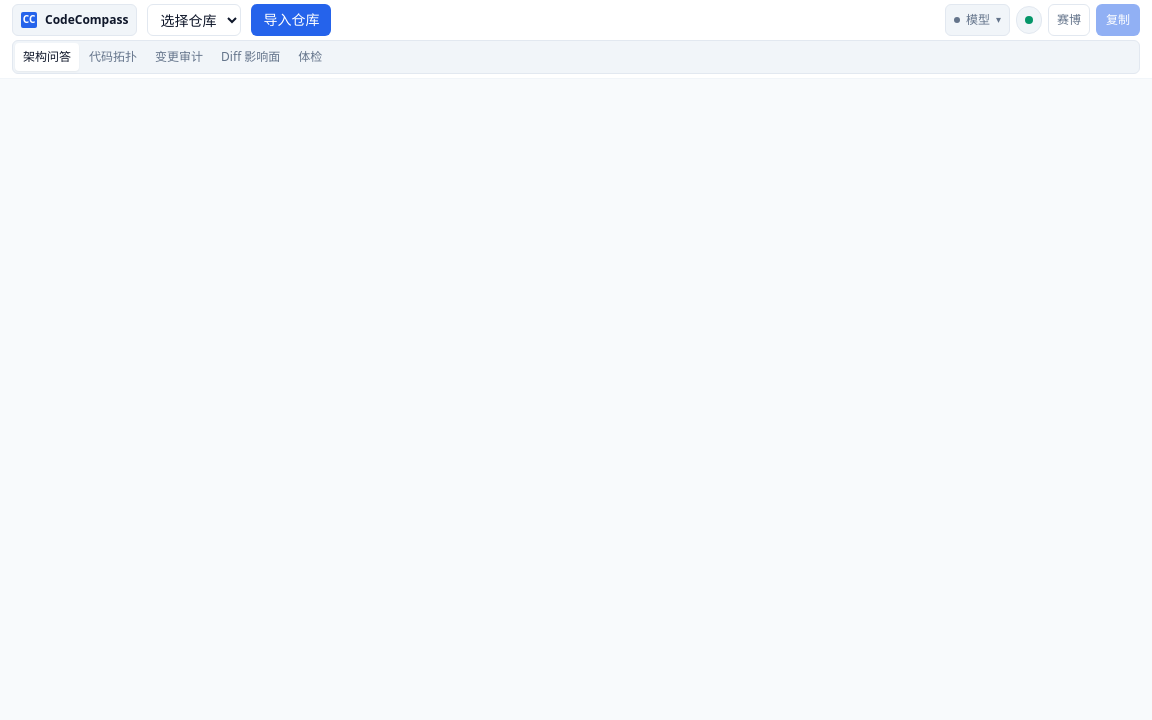
Scenario: TopBar import dialog › only reacts to Escape while the dialog is open (Bug-11)
Press Escape
Click the button with test id "open-import" at (291, 20), box left=251, top=4, right=331, bottom=36
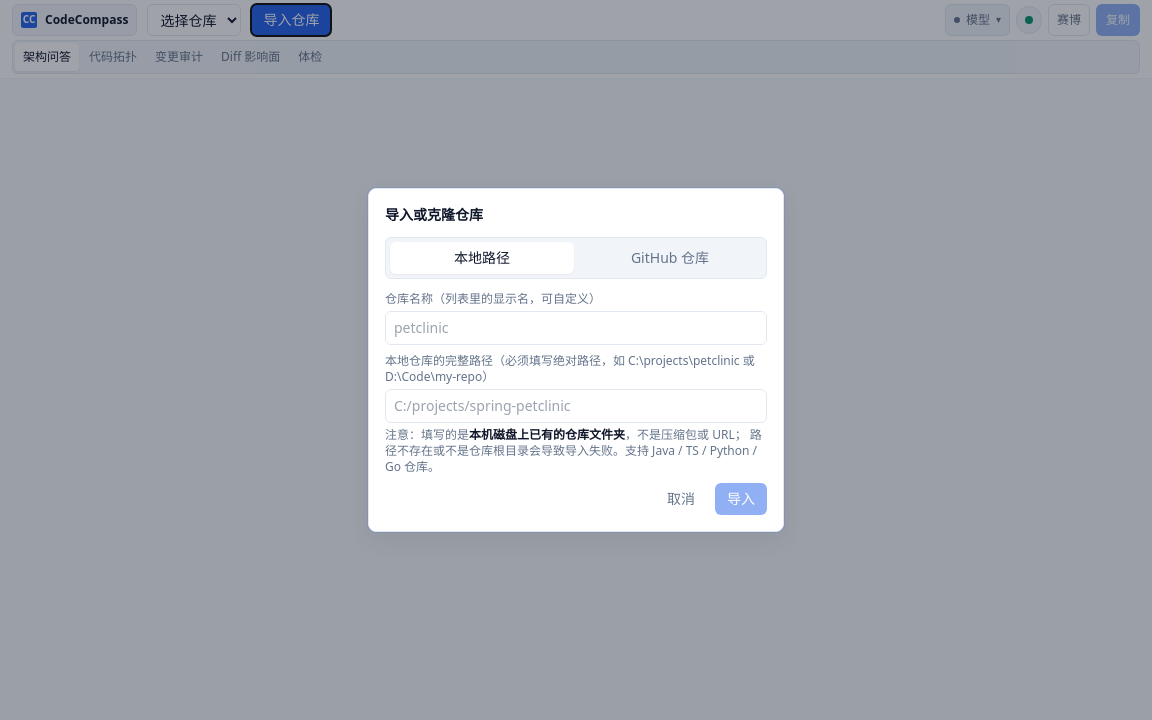
Check: the dialog with test id "import-dialog" is shown
